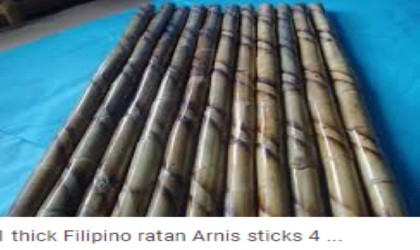baston_e: (8, 9, 155, 209), (40, 10, 172, 210), (309, 7, 413, 211), (79, 14, 183, 212), (111, 14, 204, 211), (291, 9, 370, 214), (144, 13, 221, 214), (181, 10, 240, 212), (275, 10, 331, 210), (221, 9, 260, 212), (255, 9, 291, 216)
baston_v: (255, 0, 276, 15), (290, 1, 309, 15), (304, 0, 326, 11), (206, 0, 222, 15), (275, 0, 291, 15), (239, 0, 256, 14), (137, 0, 157, 11), (191, 0, 206, 14), (223, 1, 240, 13), (174, 1, 190, 12), (160, 0, 176, 9)
